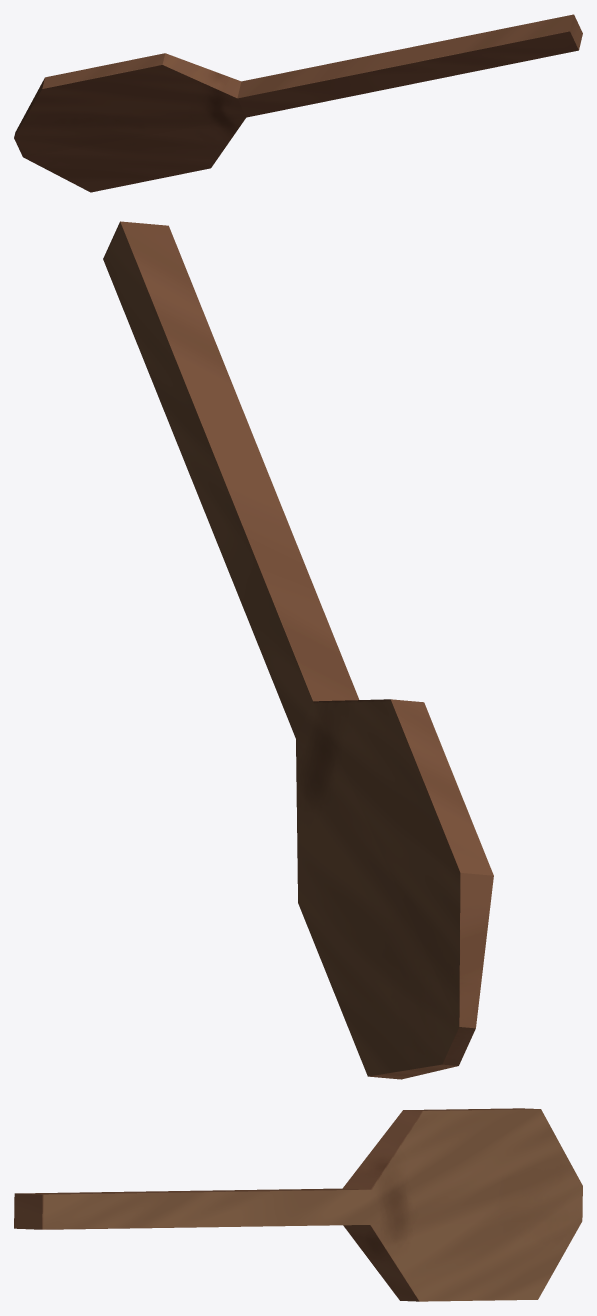
The model's file is REMODERECH.fbx.
3 views of the same model, one above another, from view 1: azimuth 30°, elevation 25°; view 2: azimuth 150°, elevation 25°; view 3: azimuth 270°, elevation 25° (orthographic). The views are drawn at different scales.
Visible parts, largest first — view 1: Cube.002; view 2: Cube.002; view 3: Cube.002.
Part boxes in pixels (x1,y1,x2,y2): Cube.002: [14, 14, 582, 192]; Cube.002: [103, 221, 493, 1079]; Cube.002: [14, 1108, 582, 1301].
Bounding box in the file's own units: 166 × 95.39 × 156.
